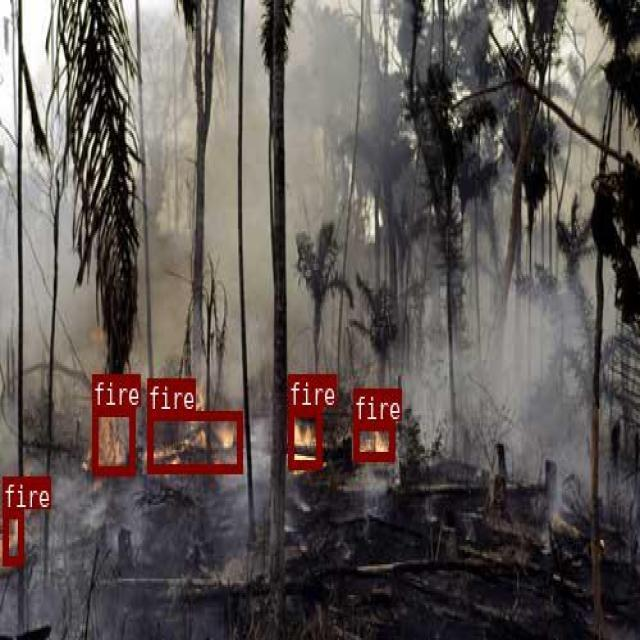fire: (147, 410, 241, 472), (91, 407, 134, 474), (287, 406, 321, 467), (352, 420, 394, 459), (2, 509, 23, 563)
